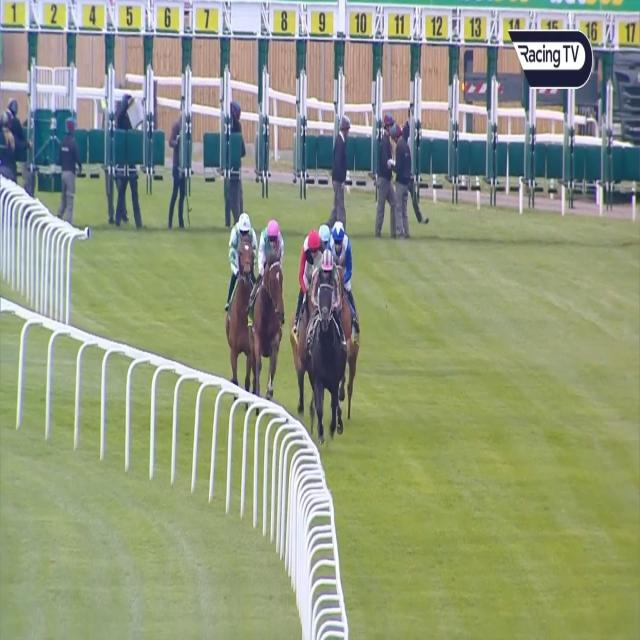horses-racing: (250, 215, 288, 398), (226, 208, 254, 390), (294, 227, 324, 395), (315, 253, 343, 420), (329, 217, 358, 323)
